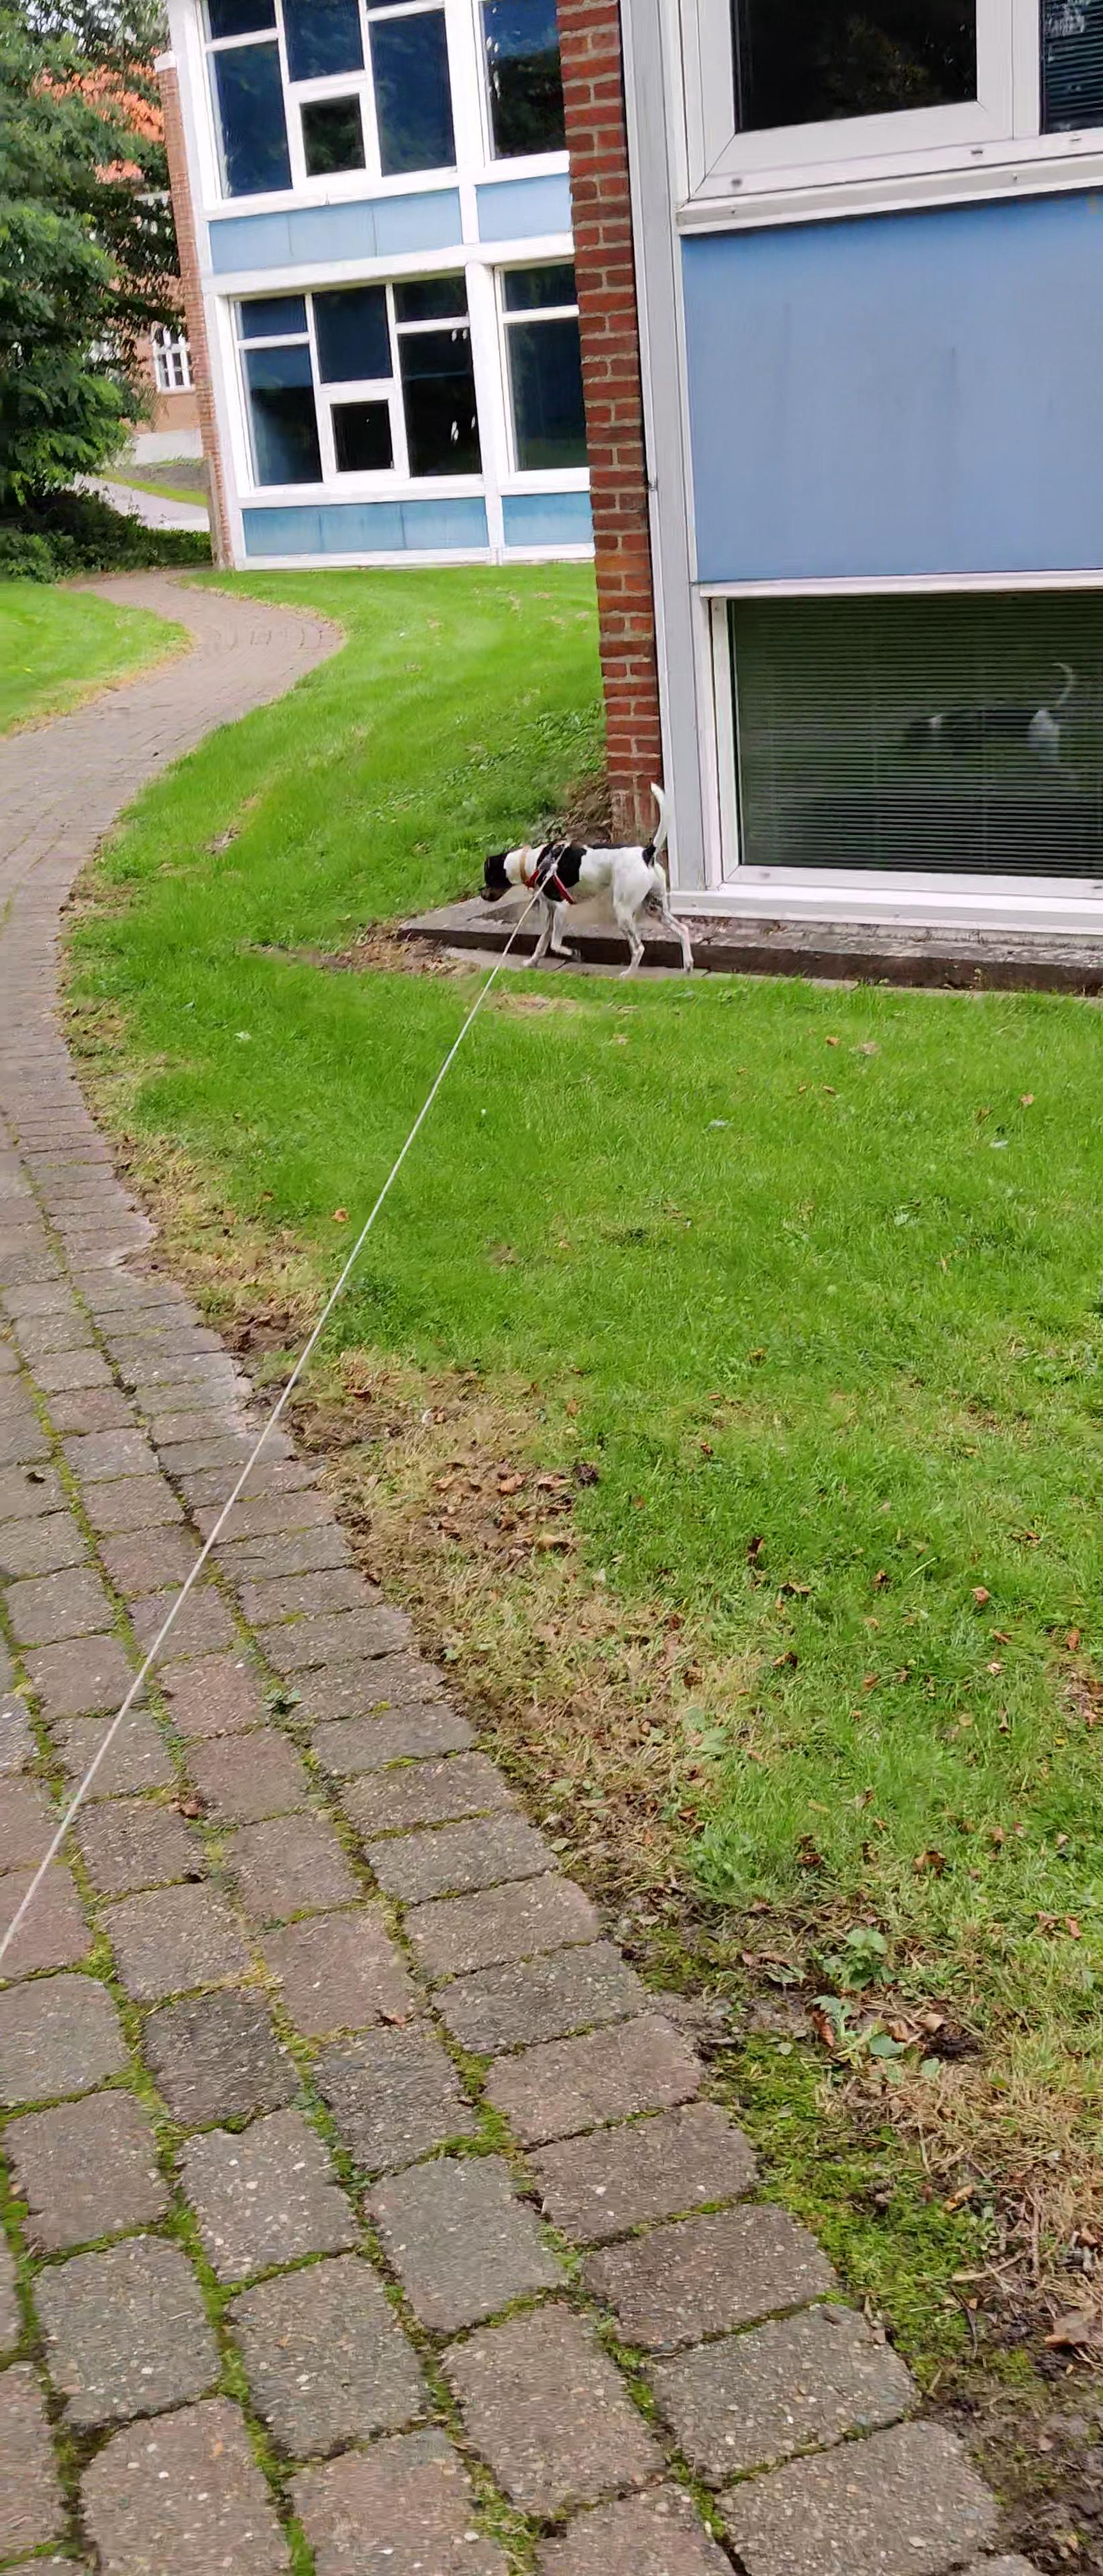Dog: (472, 780, 695, 982)
